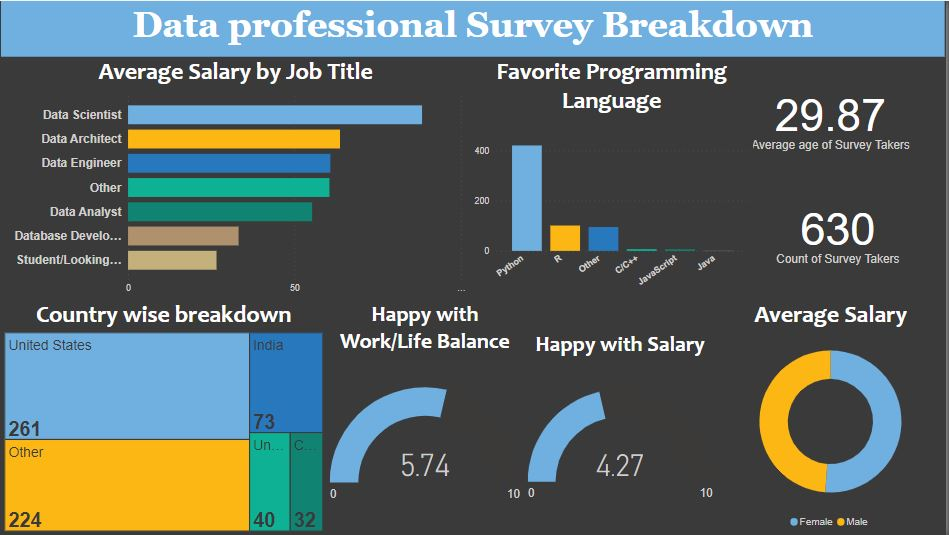

The dashboard page shown, as its layout file describes it:
{"tool":"powerbi","page":{"name":"Page 1","canvas":[1280,720],"ordinal":0},"visuals":[{"type":"textbox","box":[10.1,0,1269.9,75.5],"z":0},{"type":"card","fields":{"Values":["Count(Data Professional Survey.Unique ID)"]},"box":[990,240.1,290,142.2],"z":1000},{"type":"card","fields":{"Values":["Avg(Data Professional Survey.Q10 - Current Age)"]},"box":[971.5,75.7,308.5,164.4],"z":2000},{"type":"barChart","title":"Average Salary by Job Title","fields":{"Category":["Data Professional Survey.Q1 - Which Title Best Fits your Current Role?.1"],"Y":["Avg(Data Professional Survey.Average Salary)"],"Series":["Data Professional Survey.Q1 - Which Title Best Fits your Current Role?.1"]},"box":[8.9,75.4,631.1,326.7],"z":2001},{"type":"columnChart","title":"Favorite Programming Language","fields":{"Category":["Data Professional Survey.Q5 - Favorite Programming Language.1"],"Y":["CountNonNull(Data Professional Survey.Unique ID)"],"Series":["Data Professional Survey.Q5 - Favorite Programming Language.1"]},"box":[640,75.4,381.3,326.7],"z":2002},{"type":"treemap","title":"Country wise breakdown","fields":{"Group":["Data Professional Survey.Q11 - Which Country do you live in?.1"],"Values":["CountNonNull(Data Professional Survey.Q11 - Which Country do you live in?.1)"]},"box":[9.2,402.7,437.7,315.8],"z":2003},{"type":"gauge","title":"Happy with Salary","fields":{"Y":["Avg(Data Professional Survey.Q6 - How Happy are you in your Current Position with the following? (Salary))"],"MinValue":["Min(Data Professional Survey.Q6 - How Happy are you in your Current Position with the following? (Salary))"],"MaxValue":["Max(Data Professional Survey.Q6 - How Happy are you in your Current Position with the following? (Salary))"]},"box":[713,443.3,258.6,275.2],"z":2004},{"type":"gauge","title":"Happy with Work/Life Balance","fields":{"Y":["Avg(Data Professional Survey.Q6 - How Happy are you in your Current Position with the following? (Work/Life Balance))"],"MinValue":["Min(Data Professional Survey.Q6 - How Happy are you in your Current Position with the following? (Work/Life Balance))1"],"MaxValue":["Max(Data Professional Survey.Q6 - How Happy are you in your Current Position with the following? (Work/Life Balance))2"]},"box":[447,402.7,266,317.7],"z":2005},{"type":"donutChart","title":"Average Salary","fields":{"Category":["Data Professional Survey.Q9 - Male/Female?"],"Y":["Avg(Data Professional Survey.Average Salary)"]},"box":[971.5,402.7,308.5,317.7],"z":2006}]}

Visuals, with their boxes in screenshot pixels (x1, y1, x2, y2), scaled from the page's 1280x720 canvas onto the 949x535 screenshot:
textbox: box=[7, 0, 948, 56]
card - Count(Data Professional Survey.Unique ID): box=[734, 178, 948, 284]
card - Avg(Data Professional Survey.Q10 - Current Age): box=[720, 56, 948, 178]
"Average Salary by Job Title" barChart: box=[7, 56, 474, 299]
"Favorite Programming Language" columnChart: box=[474, 56, 757, 299]
"Country wise breakdown" treemap: box=[7, 299, 331, 534]
"Happy with Salary" gauge: box=[529, 329, 720, 534]
"Happy with Work/Life Balance" gauge: box=[331, 299, 529, 534]
"Average Salary" donutChart: box=[720, 299, 948, 534]
